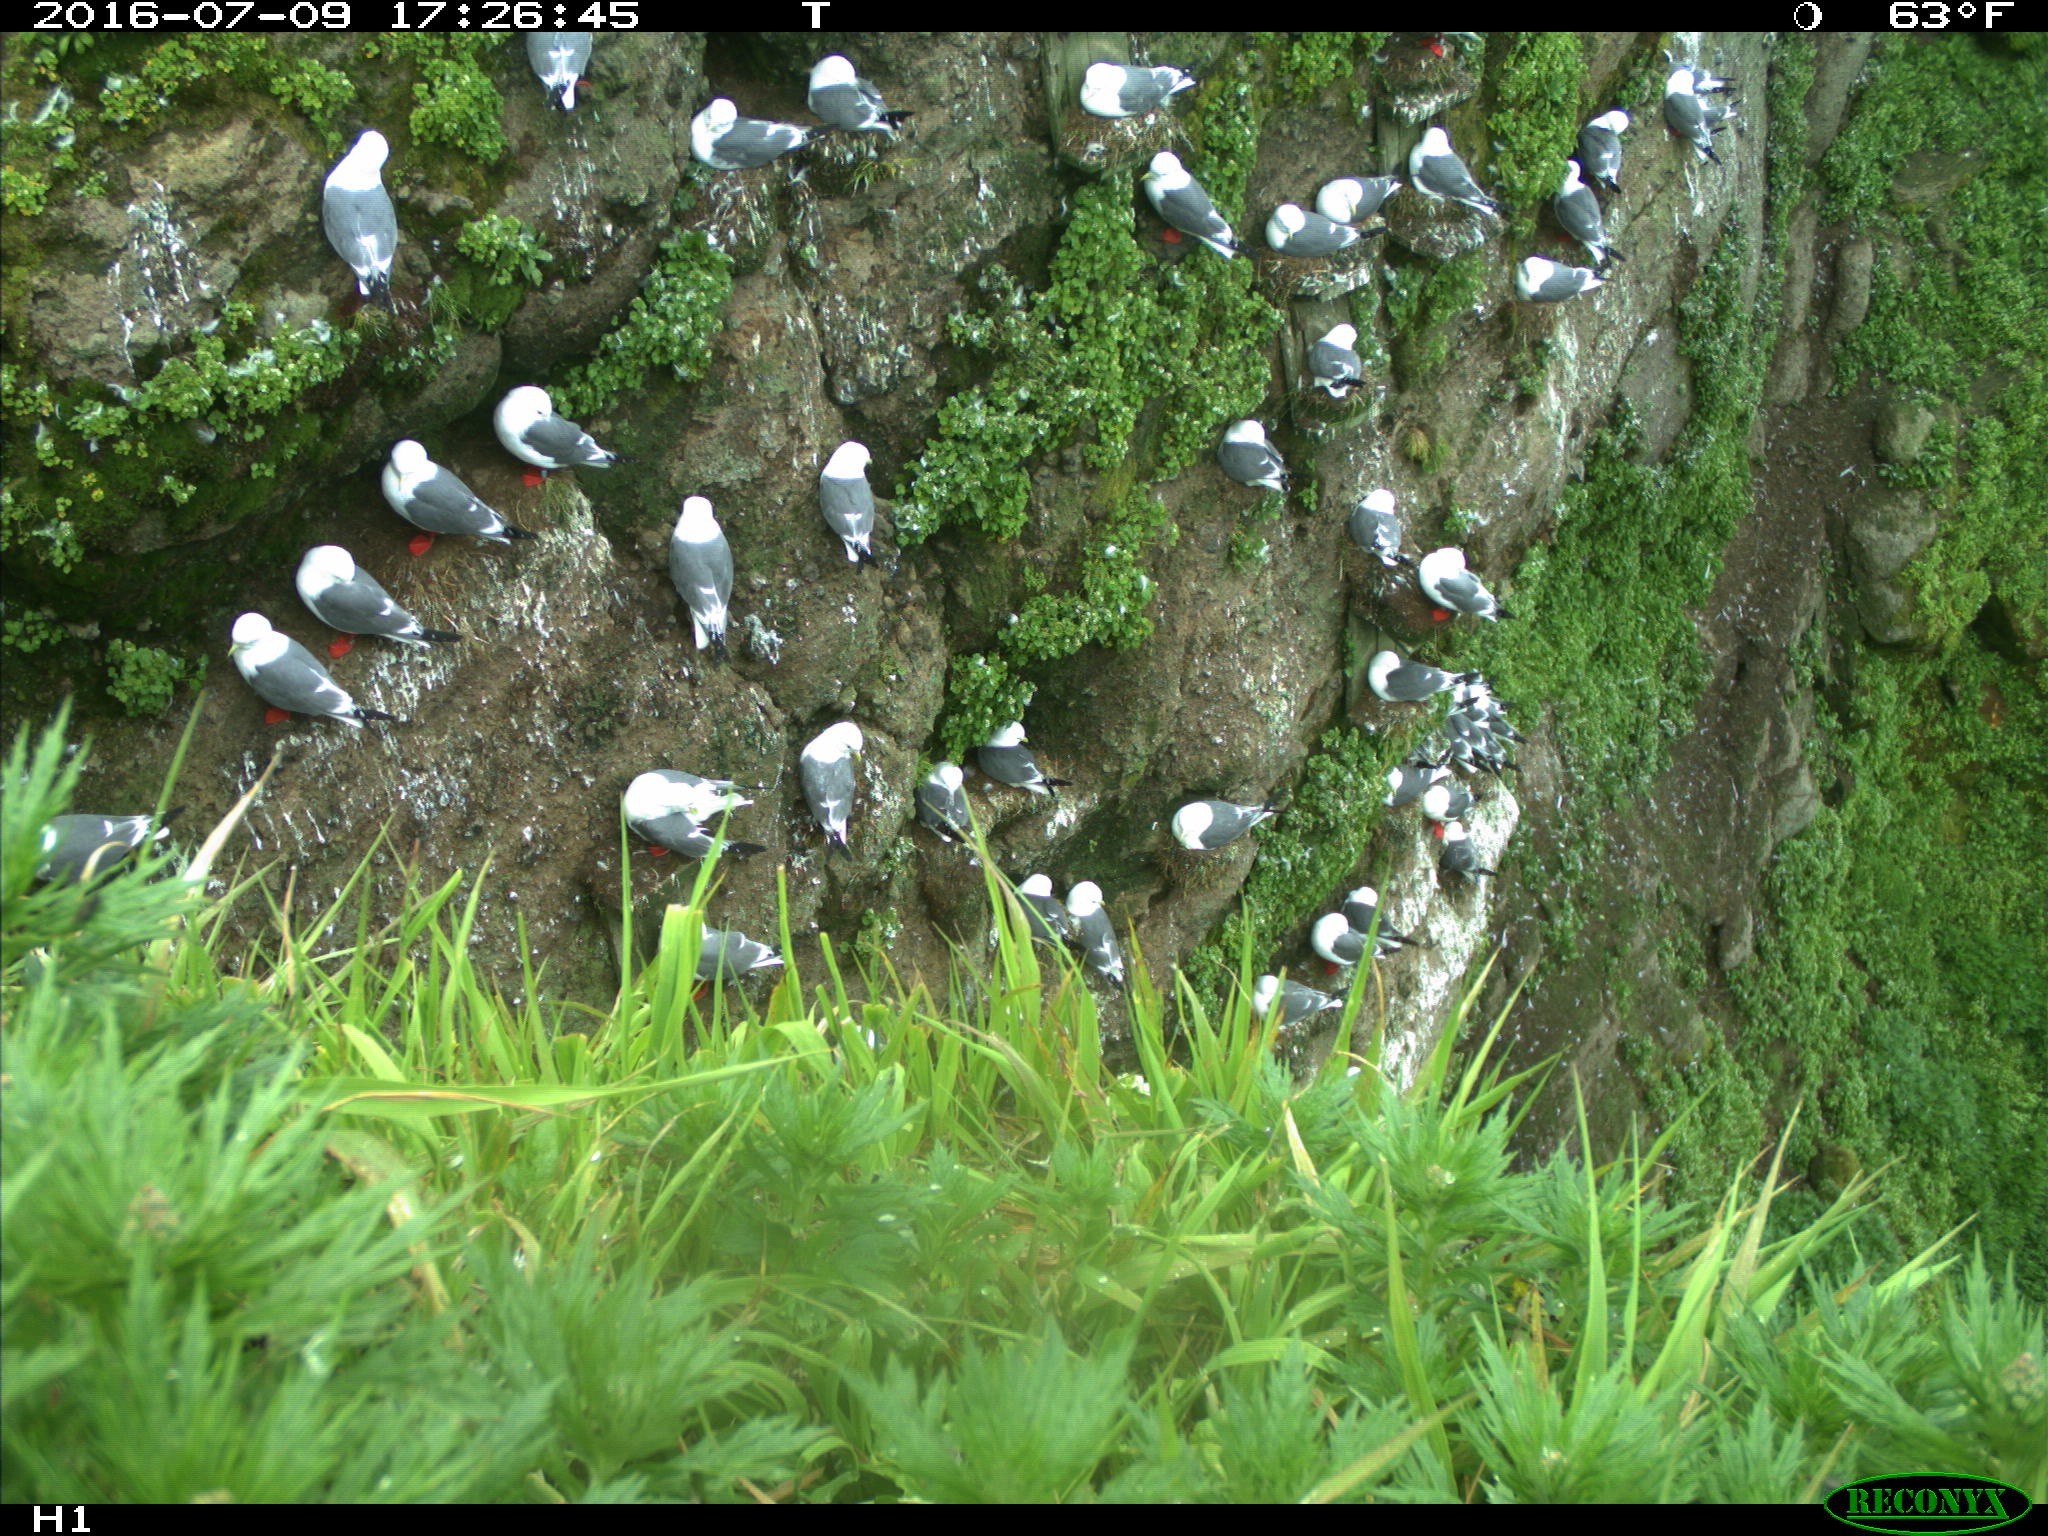Kittiwake: (640, 484, 808, 674), (363, 424, 543, 555), (300, 132, 460, 279), (221, 586, 355, 753), (587, 755, 782, 870), (273, 532, 447, 658), (490, 365, 629, 508), (672, 82, 839, 192), (1129, 129, 1250, 274), (784, 707, 887, 854), (1064, 31, 1229, 121), (668, 889, 805, 992), (806, 421, 892, 586), (785, 47, 930, 140), (15, 795, 168, 883), (1150, 778, 1288, 865), (1234, 954, 1364, 1046), (1642, 61, 1751, 169), (1350, 616, 1472, 708), (1337, 478, 1476, 558), (1256, 189, 1384, 274), (1397, 528, 1493, 637), (1405, 116, 1485, 245), (964, 716, 1069, 815), (1206, 399, 1301, 507), (1508, 240, 1625, 324), (1305, 153, 1400, 250), (908, 750, 985, 866), (1334, 871, 1442, 950), (1292, 319, 1388, 407), (1006, 850, 1079, 960), (1546, 153, 1650, 227), (1297, 897, 1392, 976), (526, 23, 605, 115), (1064, 868, 1126, 984), (1422, 813, 1508, 895), (1380, 976, 1455, 1066), (1563, 94, 1659, 160), (1405, 768, 1509, 824)
